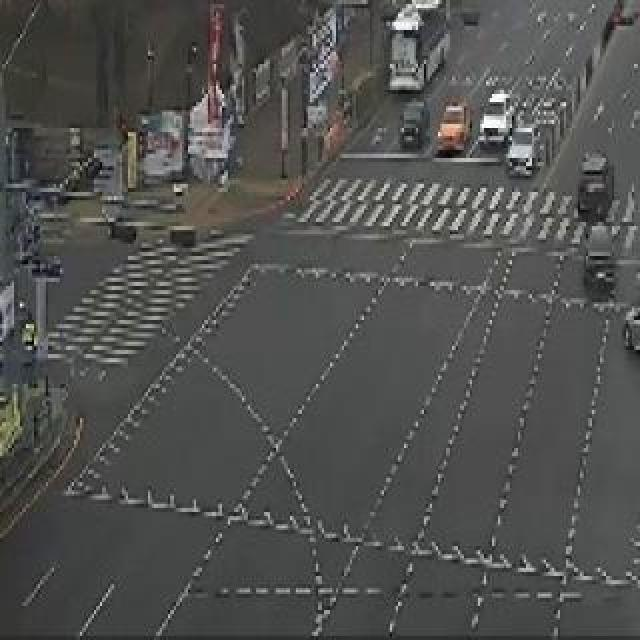car: (391, 91, 433, 164), (438, 94, 476, 154)
